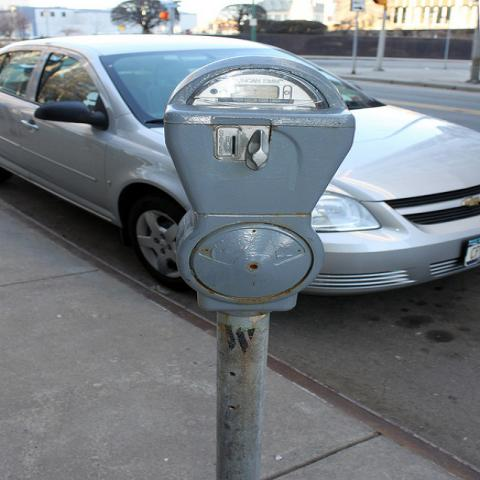car: (0, 30, 479, 298)
